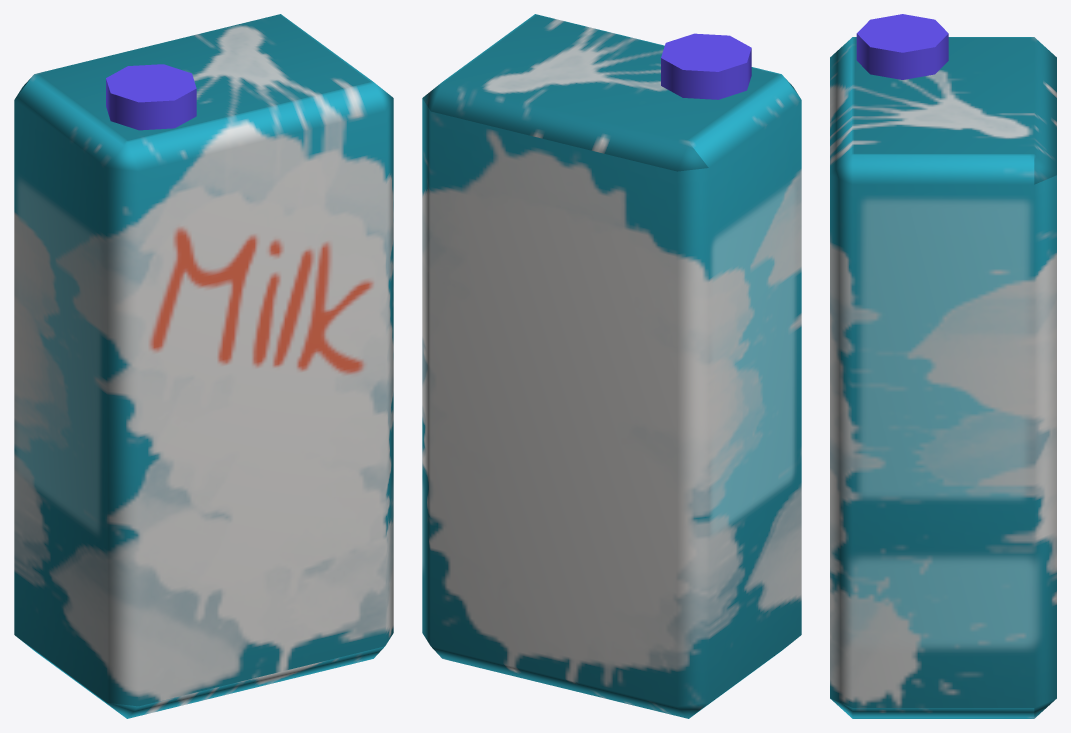
Rendered from Milk.fbx.
3 views of the same model, side by side, from view 1: azimuth 30°, elevation 25°; view 2: azimuth 150°, elevation 25°; view 3: azimuth 270°, elevation 25° (orthographic). The views are drawn at different scales.
Parts seen in each view (by area): view 1: Milk; view 2: Milk; view 3: Milk.
Part boxes in pixels (bbox=[...]): Milk: bbox=[14, 14, 393, 718]; Milk: bbox=[422, 14, 801, 718]; Milk: bbox=[830, 14, 1056, 718].
Size of the model in its own units: 10.16 by 20.48 by 7.12.
